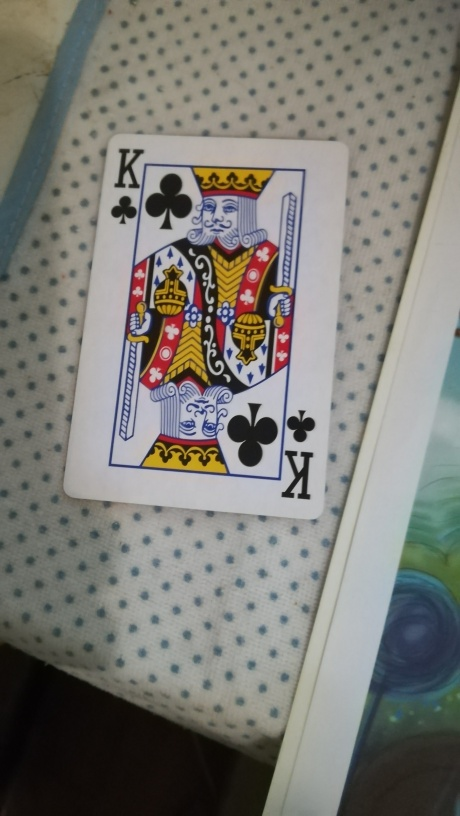mh k: (63, 130, 351, 517)
